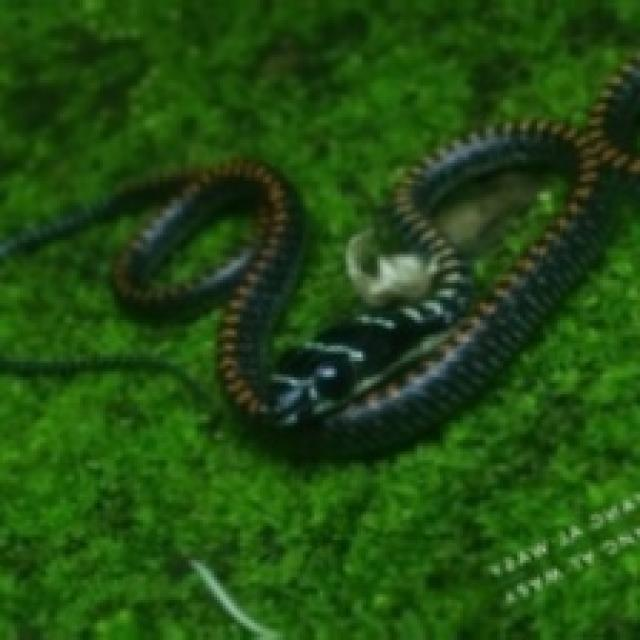paradise tree snake: (0, 0, 637, 343), (0, 217, 506, 637), (443, 343, 594, 457)
